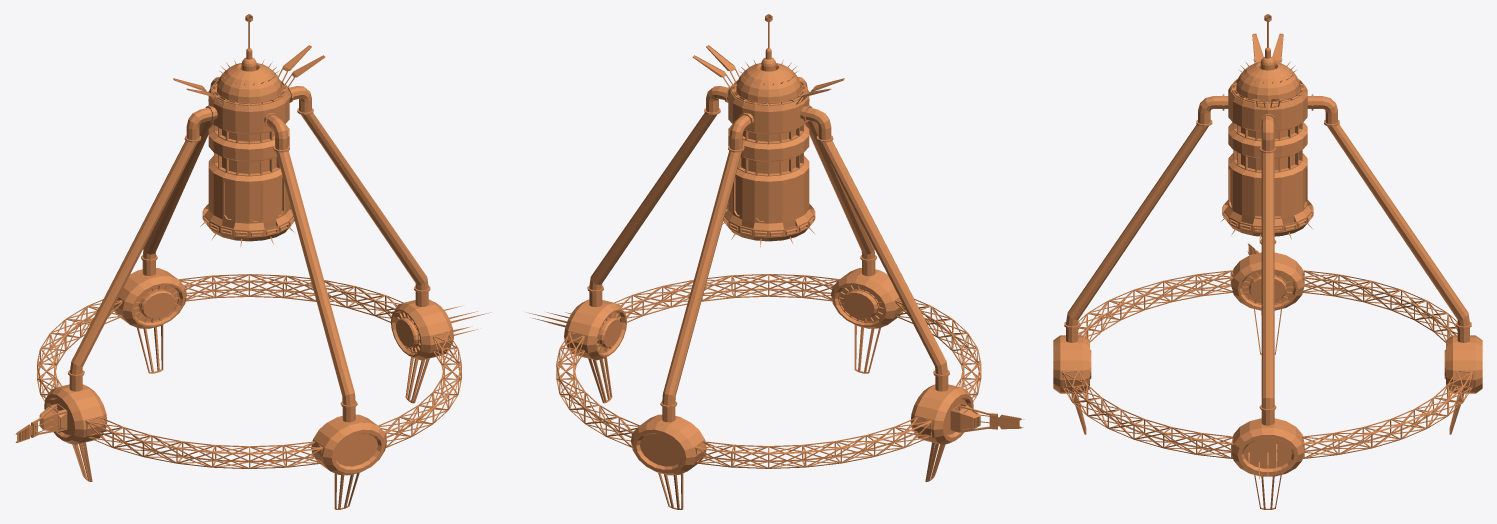
File: Wormhole generator.obj
3 renders of one model, left to right at view 1: azimuth 30°, elevation 25°; view 2: azimuth 150°, elevation 25°; view 3: azimuth 270°, elevation 25°, orthographic.
Visible parts, largest first — view 1: Box01; view 2: Box01; view 3: Box01.
Part boxes in pixels (x1,y1,x2,y2): Box01: (15, 14, 490, 509); Box01: (527, 14, 1024, 509); Box01: (1053, 14, 1482, 509).
Size of the model in its own units: 525 by 436 by 405.
